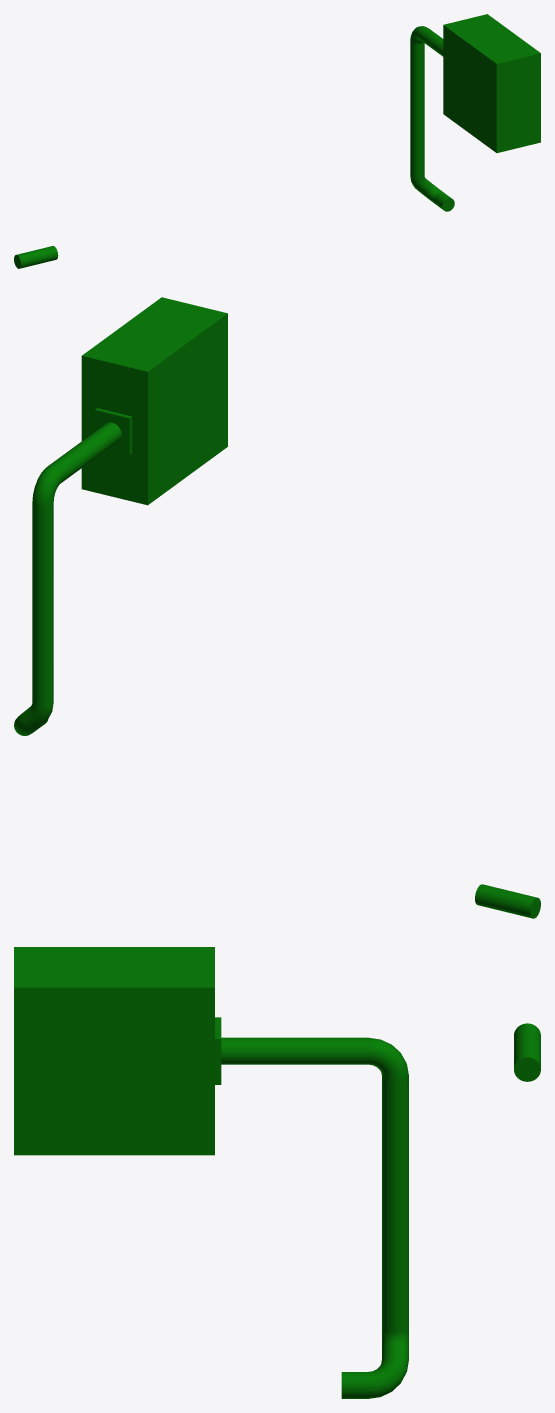
File: Image-1710907552555-2281197262896_HVAC-UNIT.fbx
The picture shows the model from 3 angles, top to bottom: view 1: azimuth 30°, elevation 25°; view 2: azimuth 150°, elevation 25°; view 3: azimuth 270°, elevation 25°; orthographic projection. The views are drawn at different scales.
Visible parts, largest first — view 1: BOX 2 of EQUIPMENT /HVAC-UNIT, CYLINDER 2 of EQUIPMENT /HVAC-UNIT, CYLINDER 1 of EQUIPMENT /HVAC-UNIT, CYLINDER 3 of EQUIPMENT /HVAC-UNIT; view 2: BOX 2 of EQUIPMENT /HVAC-UNIT, CYLINDER 2 of EQUIPMENT /HVAC-UNIT, CYLINDER 3 of EQUIPMENT /HVAC-UNIT, CYLINDER 1 of EQUIPMENT /HVAC-UNIT, BOX 1 of EQUIPMENT /HVAC-UNIT, CTORUS 1 of EQUIPMENT /HVAC-UNIT; view 3: BOX 2 of EQUIPMENT /HVAC-UNIT, CYLINDER 2 of EQUIPMENT /HVAC-UNIT, CYLINDER 3 of EQUIPMENT /HVAC-UNIT, CYLINDER 1 of EQUIPMENT /HVAC-UNIT, CTORUS 1 of EQUIPMENT /HVAC-UNIT, CTORUS 3 of EQUIPMENT /HVAC-UNIT, CYLINDER 4 of EQUIPMENT /HVAC-UNIT.
Part boxes in pixels (left/top/right/bottom): BOX 2 of EQUIPMENT /HVAC-UNIT: left=443, top=14, right=540, bottom=152; CYLINDER 2 of EQUIPMENT /HVAC-UNIT: left=410, top=43, right=424, bottom=178; CYLINDER 1 of EQUIPMENT /HVAC-UNIT: left=14, top=246, right=58, bottom=268; CYLINDER 3 of EQUIPMENT /HVAC-UNIT: left=418, top=27, right=443, bottom=56; BOX 2 of EQUIPMENT /HVAC-UNIT: left=81, top=297, right=227, bottom=505; CYLINDER 2 of EQUIPMENT /HVAC-UNIT: left=32, top=503, right=53, bottom=706; CYLINDER 3 of EQUIPMENT /HVAC-UNIT: left=48, top=422, right=121, bottom=482; CYLINDER 1 of EQUIPMENT /HVAC-UNIT: left=475, top=884, right=540, bottom=918; BOX 1 of EQUIPMENT /HVAC-UNIT: left=94, top=408, right=132, bottom=454; CTORUS 1 of EQUIPMENT /HVAC-UNIT: left=32, top=465, right=62, bottom=506; BOX 2 of EQUIPMENT /HVAC-UNIT: left=14, top=947, right=214, bottom=1155; CYLINDER 2 of EQUIPMENT /HVAC-UNIT: left=382, top=1076, right=408, bottom=1332; CYLINDER 3 of EQUIPMENT /HVAC-UNIT: left=221, top=1037, right=368, bottom=1064; CYLINDER 1 of EQUIPMENT /HVAC-UNIT: left=514, top=1023, right=540, bottom=1081; CTORUS 1 of EQUIPMENT /HVAC-UNIT: left=368, top=1037, right=408, bottom=1081; CTORUS 3 of EQUIPMENT /HVAC-UNIT: left=368, top=1355, right=408, bottom=1398; CYLINDER 4 of EQUIPMENT /HVAC-UNIT: left=341, top=1372, right=368, bottom=1398.
Bounding box in the file's own units: 12.42 × 7.79 × 6.76.
